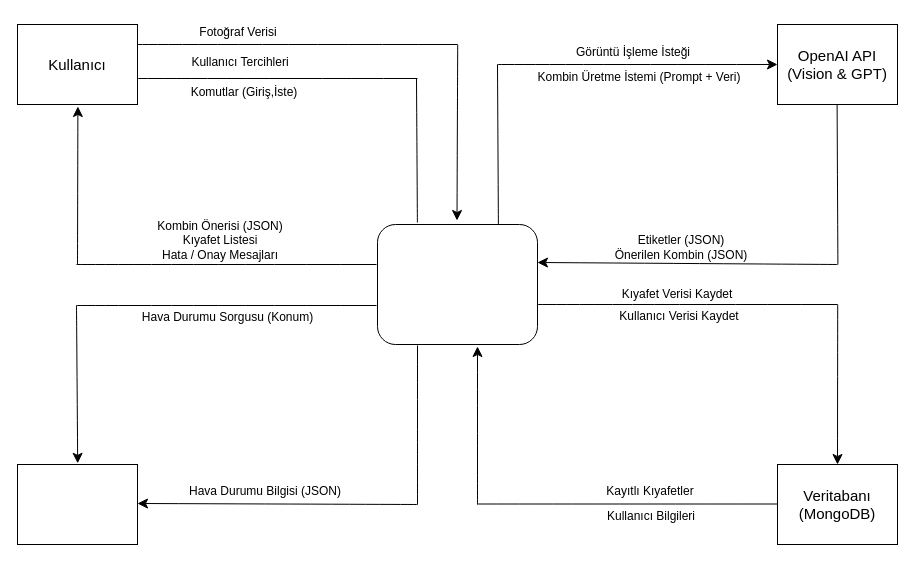
This 915x562 diagram has some shape labels left out. The shapes that lost their labels are listed below. From the top down, each one's centre as x and y in pixels, then its label:
(x=457, y=284): Smart Wardrobe AI Sistemi
(x=77, y=504): OpenWeather API
